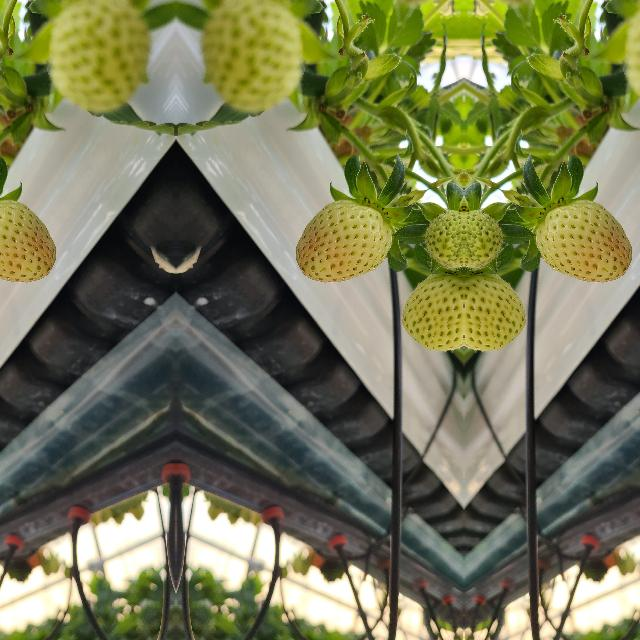Health_25: (295, 200, 391, 282), (535, 200, 631, 282), (402, 273, 462, 353), (464, 273, 524, 353), (0, 200, 55, 282), (423, 207, 462, 276), (463, 207, 502, 276)
